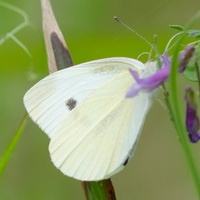insect: (24, 57, 157, 180)
